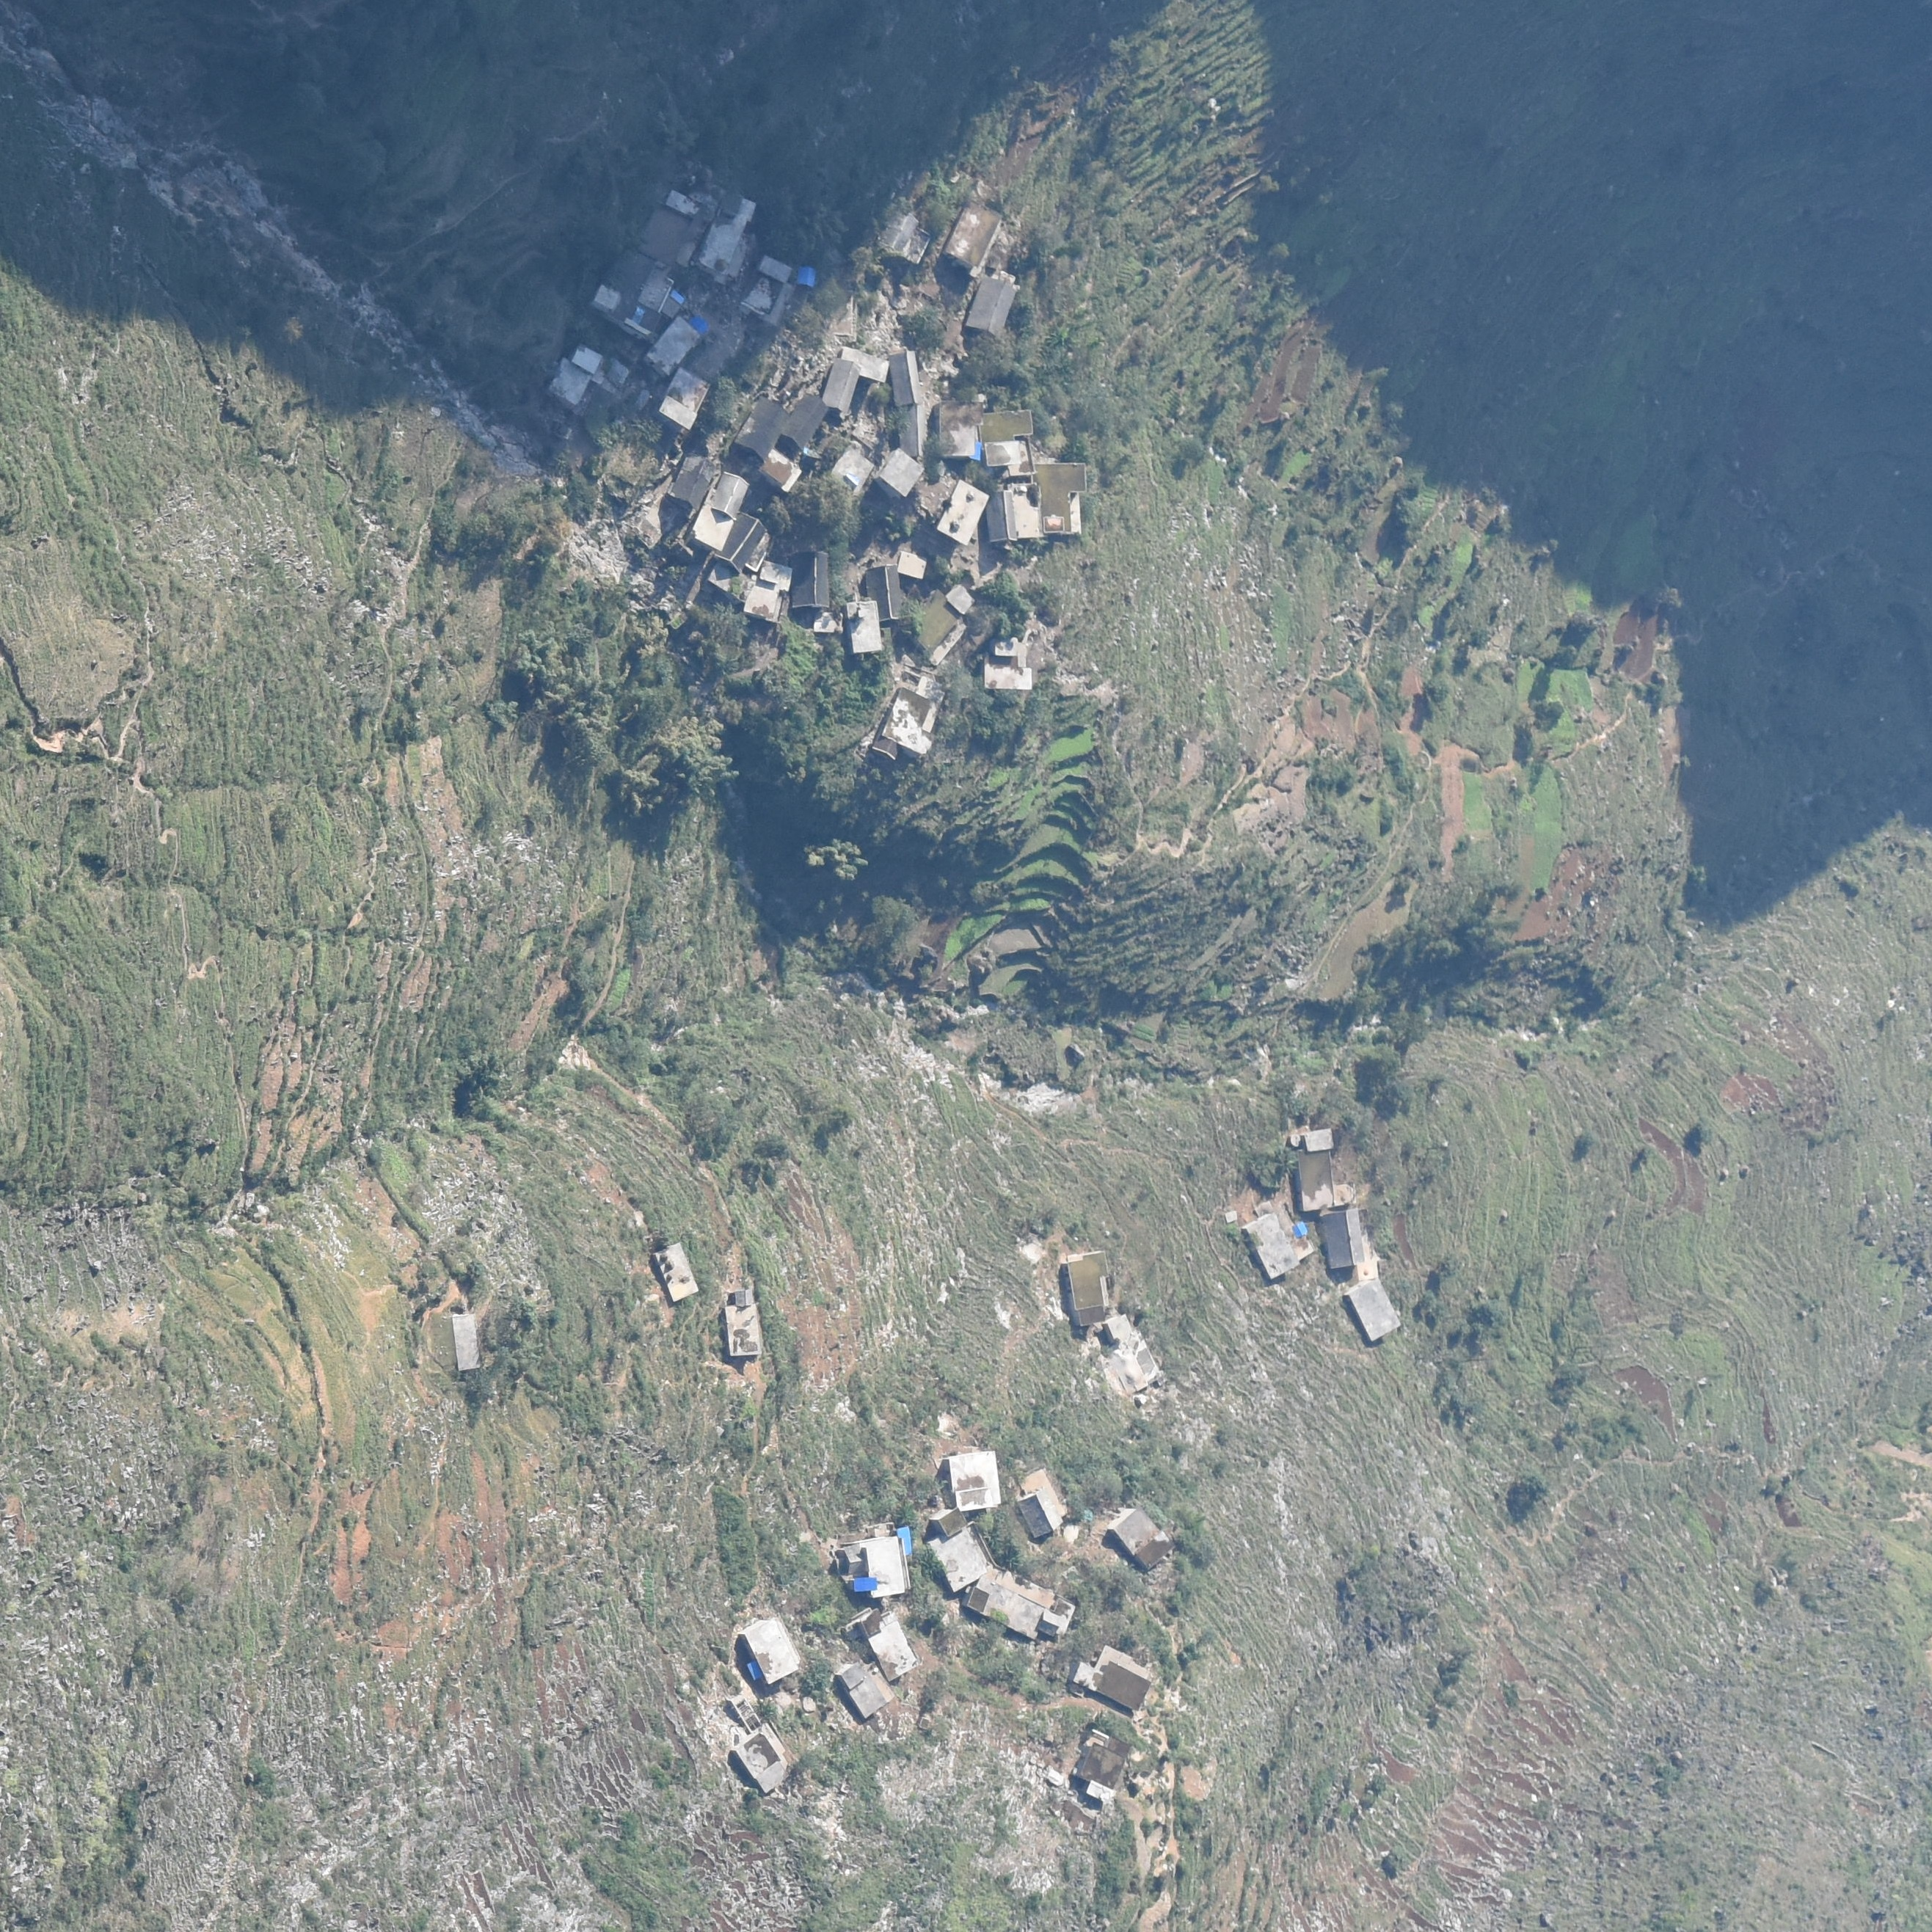building: (968, 1562, 1070, 1642), (874, 678, 947, 763), (835, 1523, 913, 1598), (642, 189, 715, 264), (1072, 1645, 1152, 1711), (929, 1506, 989, 1591), (856, 1605, 918, 1681), (947, 198, 1003, 276), (701, 196, 754, 276), (1109, 1313, 1161, 1394), (1076, 1729, 1127, 1806), (738, 1619, 800, 1683), (736, 1729, 796, 1794), (1037, 460, 1088, 536), (984, 409, 1037, 478), (625, 271, 679, 336), (1244, 1212, 1299, 1277), (1113, 1506, 1171, 1566), (740, 257, 793, 322), (1067, 1251, 1113, 1325), (653, 313, 708, 373), (1016, 1467, 1063, 1536), (1348, 1279, 1399, 1343), (947, 1451, 1000, 1511), (655, 1238, 702, 1304), (993, 478, 1040, 541), (938, 481, 987, 541), (740, 400, 787, 462), (740, 563, 791, 619), (658, 370, 708, 428), (968, 278, 1016, 336), (837, 1661, 885, 1720), (1318, 1208, 1364, 1269), (724, 1284, 761, 1359), (784, 389, 828, 451), (984, 639, 1033, 694), (878, 211, 929, 262), (789, 548, 832, 610), (717, 517, 764, 571), (936, 400, 982, 456), (1297, 1148, 1332, 1212), (669, 455, 713, 504), (886, 349, 924, 405), (692, 502, 731, 556), (865, 564, 902, 619), (883, 449, 925, 497), (449, 1311, 483, 1369), (547, 359, 589, 405), (830, 448, 872, 492), (847, 602, 883, 653), (895, 403, 927, 456), (711, 472, 748, 517), (840, 343, 886, 379), (824, 364, 858, 409), (761, 449, 796, 490), (589, 285, 623, 315), (947, 586, 975, 616), (897, 552, 925, 580), (573, 345, 602, 370), (814, 609, 842, 633), (1304, 1129, 1336, 1150)
prefabricated-house: (800, 267, 817, 287), (1293, 1221, 1307, 1238)
well: (803, 1693, 823, 1713), (1286, 1132, 1300, 1146)
